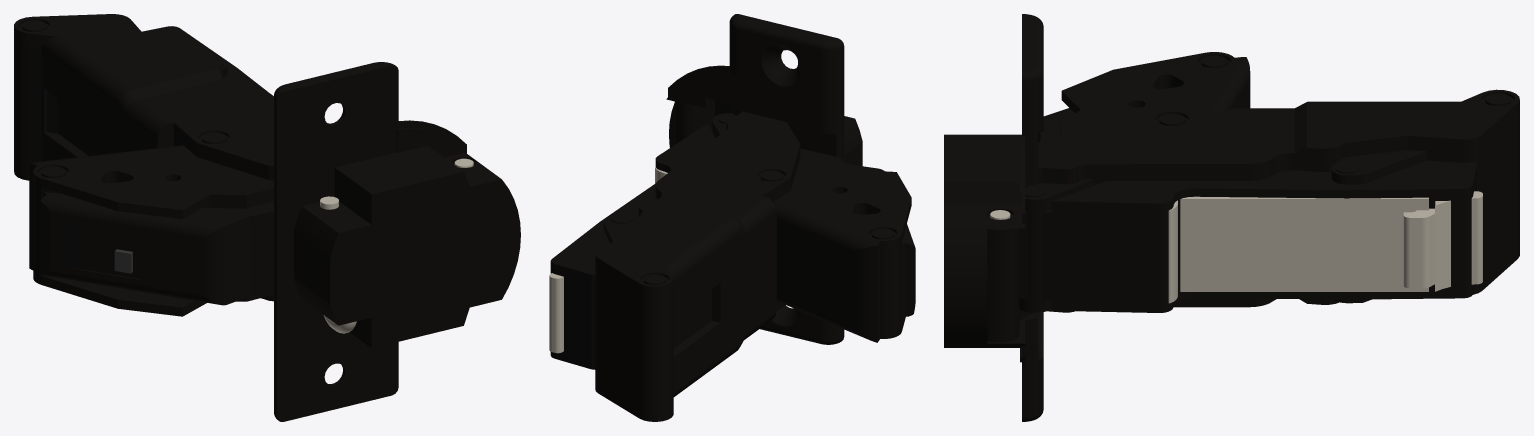
3 renders of one model, left to right at view 1: azimuth 30°, elevation 25°; view 2: azimuth 150°, elevation 25°; view 3: azimuth 270°, elevation 25°, orthographic. The views are drawn at different scales.
Parts seen in each view (by area): view 1: bau0079302490-1, bau0079291413-1, bau0079324562-1, bau0079298416-1, bau0082114196-1, bau0079262819-1; view 2: bau0079291413-1, bau0079298416-1, bau0079302490-1, bau0079262819-1, bau0082114196-1, bau0025540121-1, bau0079324562-1; view 3: bau0079291413-1, bau0079262819-1, bau0025540121-1, bau0079302490-1, bau0079298416-1, bau0082114196-1, bau0079324562-1.
Part boxes in pixels (bbox=[...]): bau0079302490-1: bbox=[274, 62, 520, 421]; bau0079291413-1: bbox=[14, 14, 273, 301]; bau0079324562-1: bbox=[40, 192, 273, 305]; bau0079298416-1: bbox=[29, 145, 273, 316]; bau0082114196-1: bbox=[14, 38, 227, 167]; bau0079262819-1: bbox=[142, 26, 266, 90]; bau0079291413-1: bbox=[595, 100, 800, 421]; bau0079298416-1: bbox=[712, 113, 911, 342]; bau0079302490-1: bbox=[666, 14, 862, 344]; bau0079262819-1: bbox=[550, 123, 715, 369]; bau0082114196-1: bbox=[603, 213, 673, 409]; bau0025540121-1: bbox=[549, 167, 667, 353]; bau0079324562-1: bbox=[846, 163, 915, 318]; bau0079291413-1: bbox=[987, 89, 1519, 342]; bau0079262819-1: bbox=[1019, 160, 1476, 312]; bau0025540121-1: bbox=[1168, 191, 1482, 303]; bau0079302490-1: bbox=[944, 14, 1043, 421]; bau0079298416-1: bbox=[1019, 52, 1250, 312]; bau0082114196-1: bbox=[1331, 114, 1519, 303]; bau0079324562-1: bbox=[1038, 88, 1166, 143].
Bounding box in the file's own units: 65.68 × 57 × 84.91.
